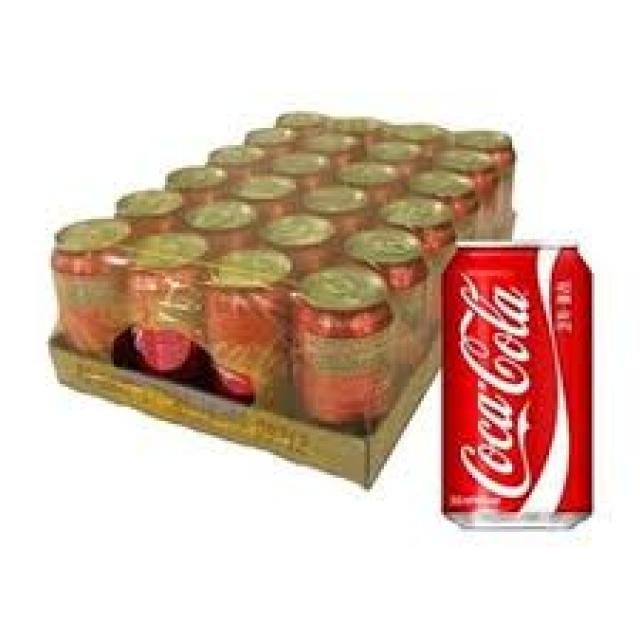Coca-Cola: (432, 222, 606, 540)
